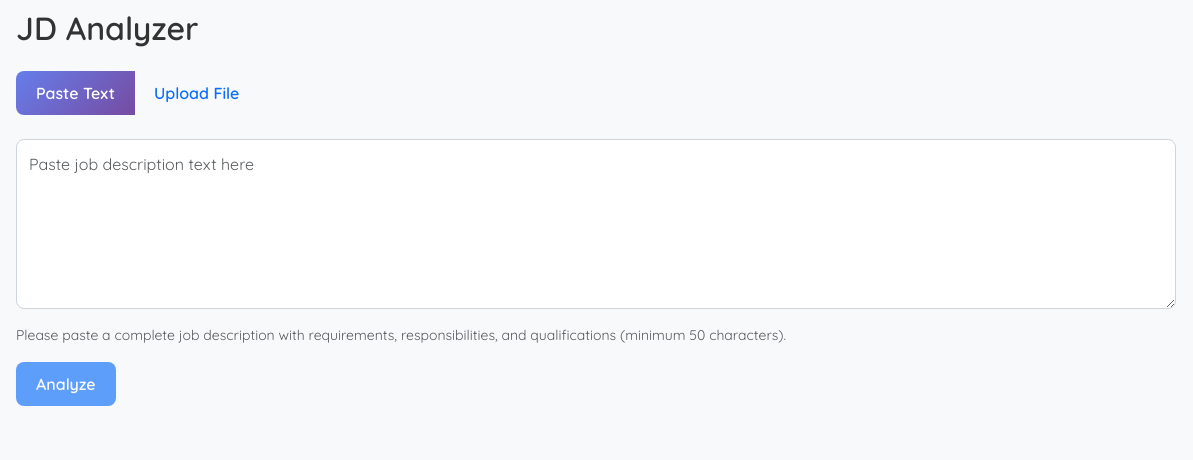
Home › disables analyze button when text validation fails
The image size is (1193, 460).
Note: Add invalid text (too short)
Type "Short text" into the text box with placeholder "Paste job description text here".
click(596, 224); type("Short text")  # box x1=16 y1=139 x2=1176 y2=309
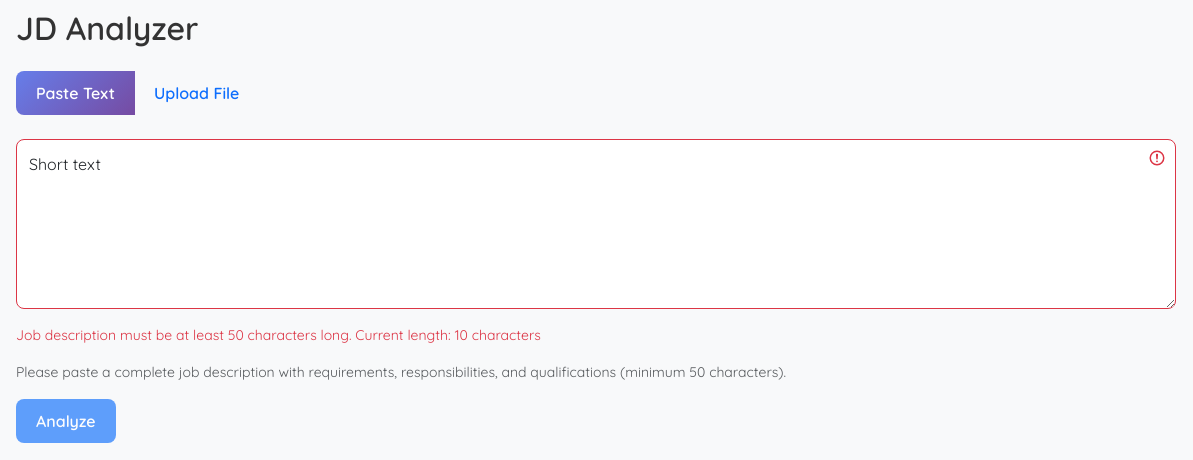
Expected: the button "Analyze" is disabled, x1=16 y1=399 x2=116 y2=443
Now the text "must be at least 50 characters long" is shown, box x1=16 y1=326 x2=541 y2=344
